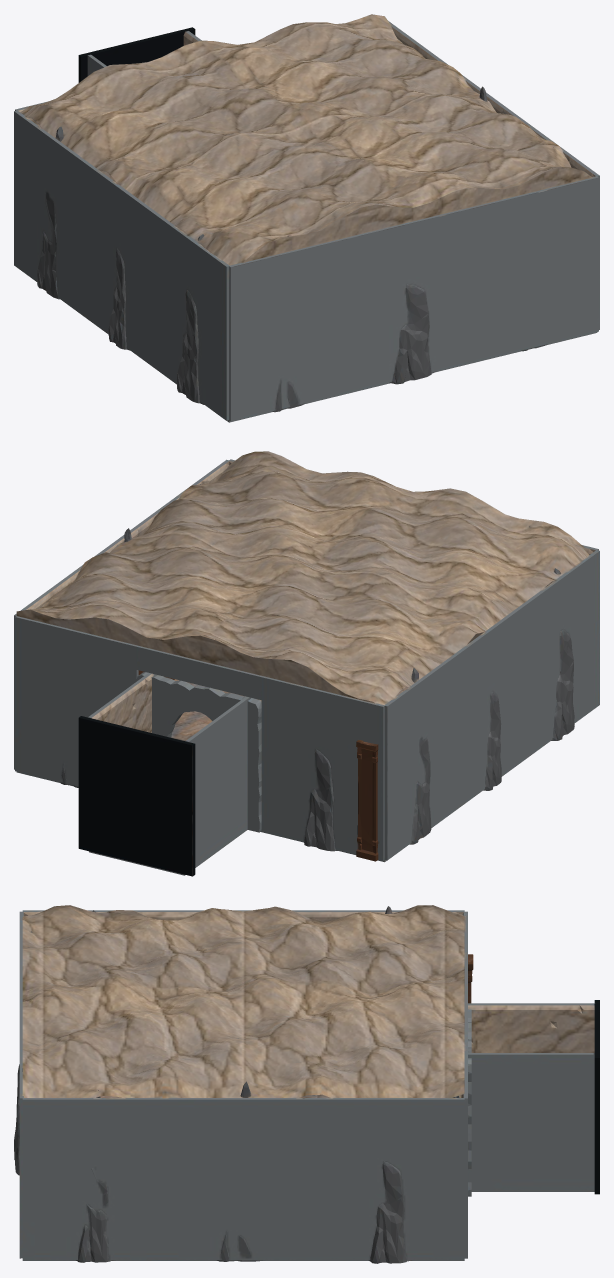
File: room.glb
3 renders of one model, top to bottom at view 1: azimuth 30°, elevation 25°; view 2: azimuth 150°, elevation 25°; view 3: azimuth 270°, elevation 25°, orthographic. The views are drawn at different scales.
Parts seen in each view (by area): view 1: LIBRARY; view 2: LIBRARY; view 3: LIBRARY.
Part boxes in pixels (x1=…): LIBRARY: x1=14, y1=14, x2=599, y2=422; LIBRARY: x1=14, y1=451, x2=599, y2=876; LIBRARY: x1=14, y1=905, x2=599, y2=1263.
Bounding box in the file's own units: 10.4 × 4.79 × 13.26.
Materials: 1 (1 with a texture image).
